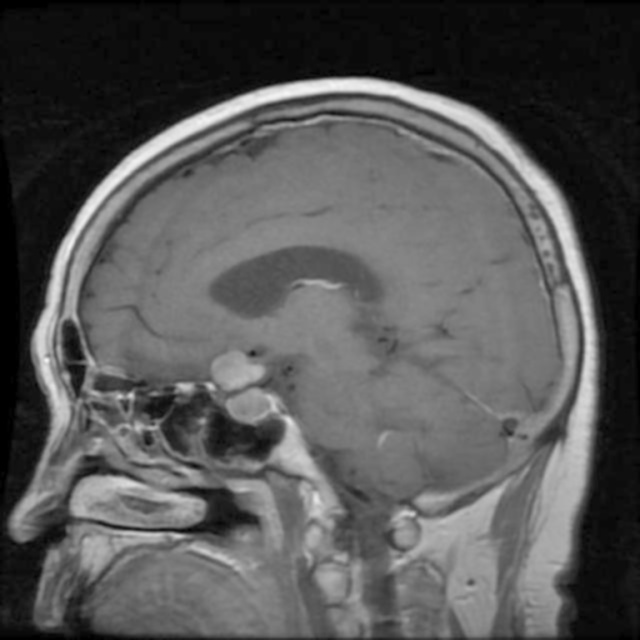no tumor: (209, 350, 291, 428)
